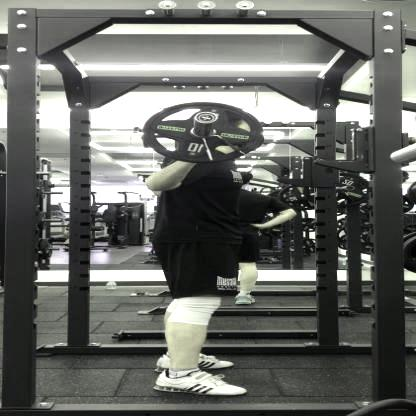Barbell: (186, 111, 221, 125)
